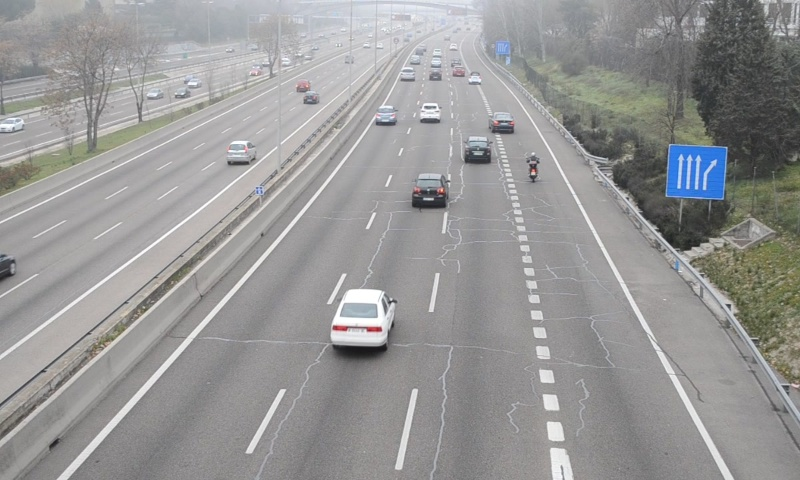car: (331, 290, 396, 348), (410, 174, 449, 206), (463, 136, 492, 164), (489, 112, 515, 135), (418, 103, 442, 123), (373, 105, 397, 125), (398, 65, 414, 82)
motorcycle: (526, 151, 540, 184)
